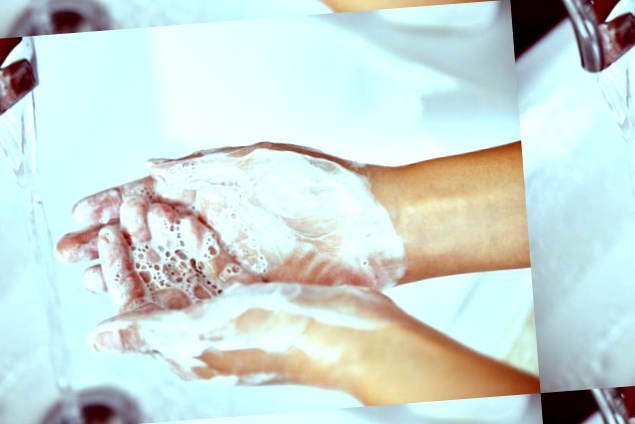washing hand: (0, 24, 439, 411)
